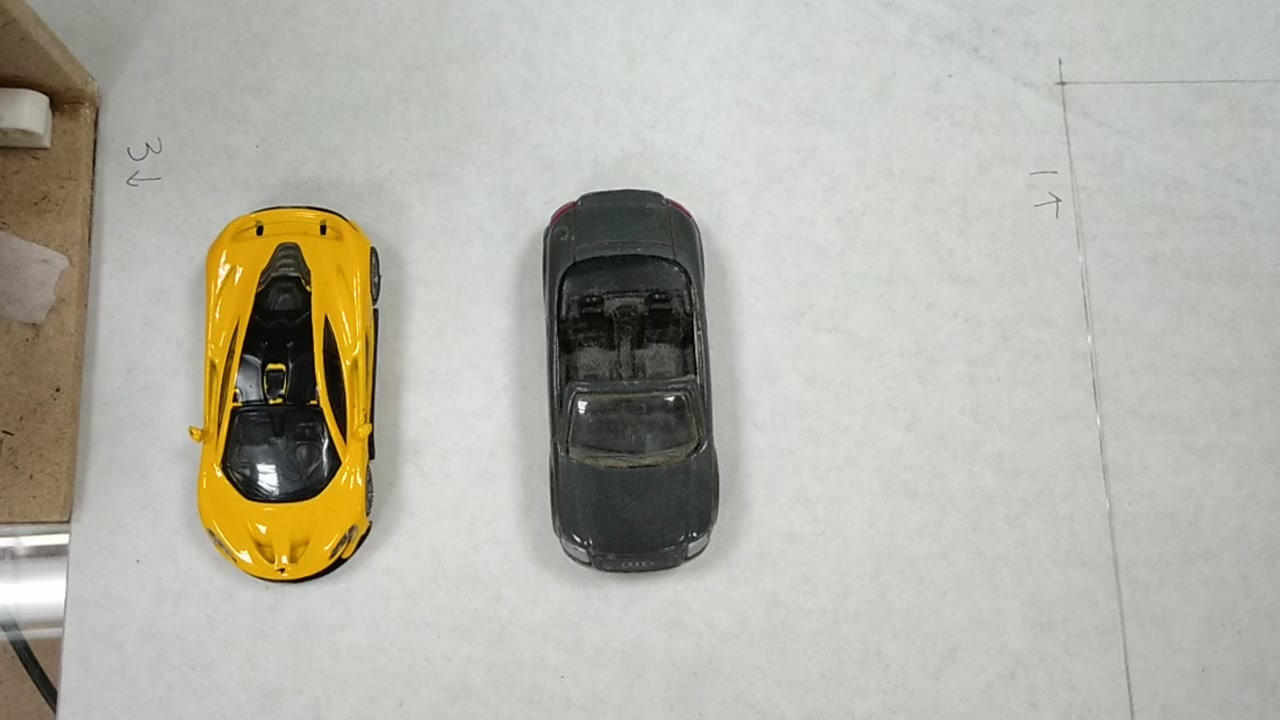car: (195, 211, 386, 543), (548, 205, 707, 543), (546, 203, 705, 541)
